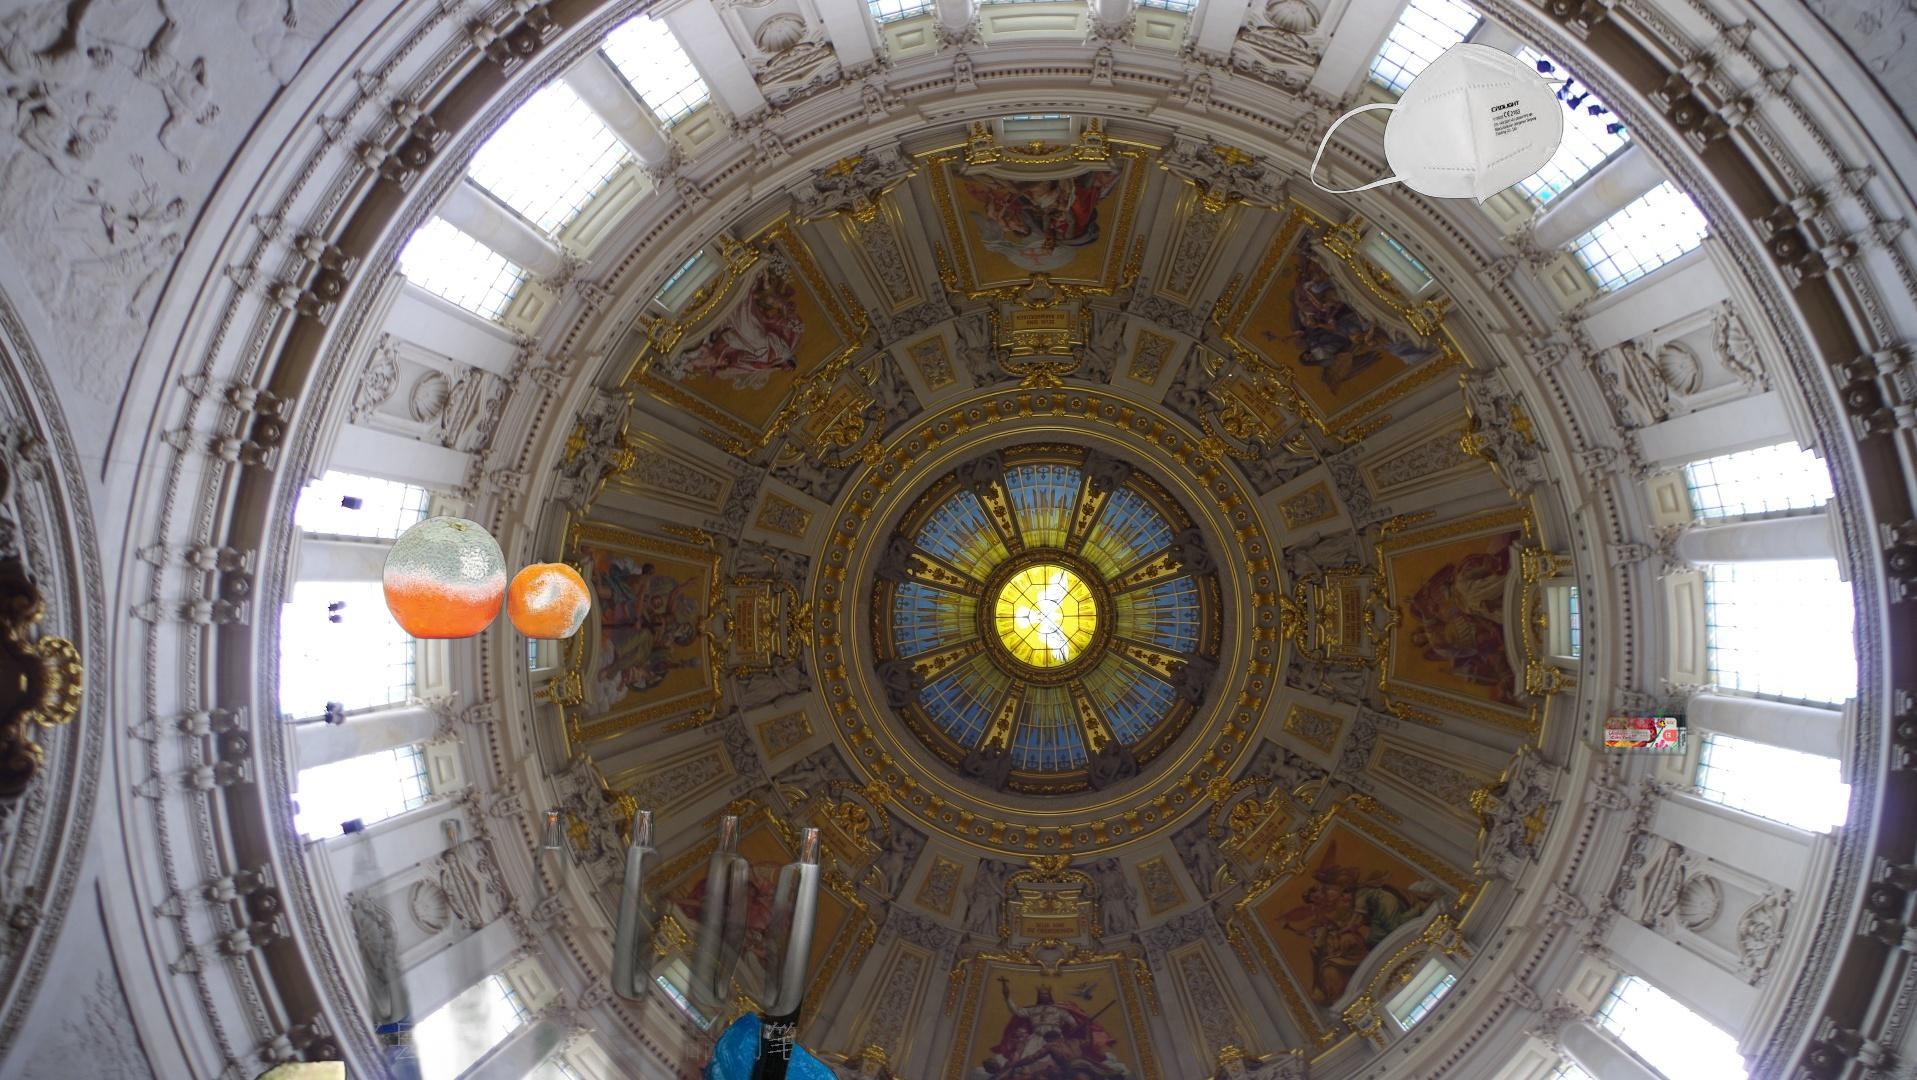biological: (381, 514, 594, 641)
paper-bag: (169, 1051, 354, 1080)
penholder: (267, 797, 895, 1080), (1564, 590, 1733, 760)
plastic-bag: (696, 1008, 852, 1080)
trash: (1310, 42, 1617, 205)
